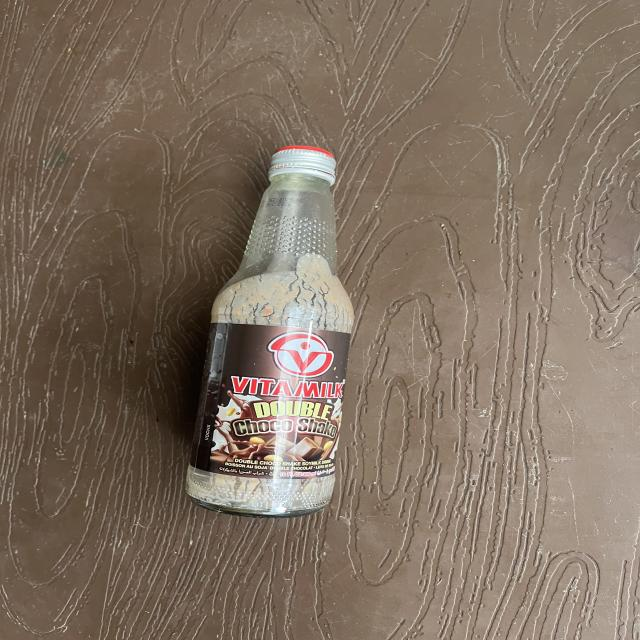REJECT: (149, 129, 384, 519)
